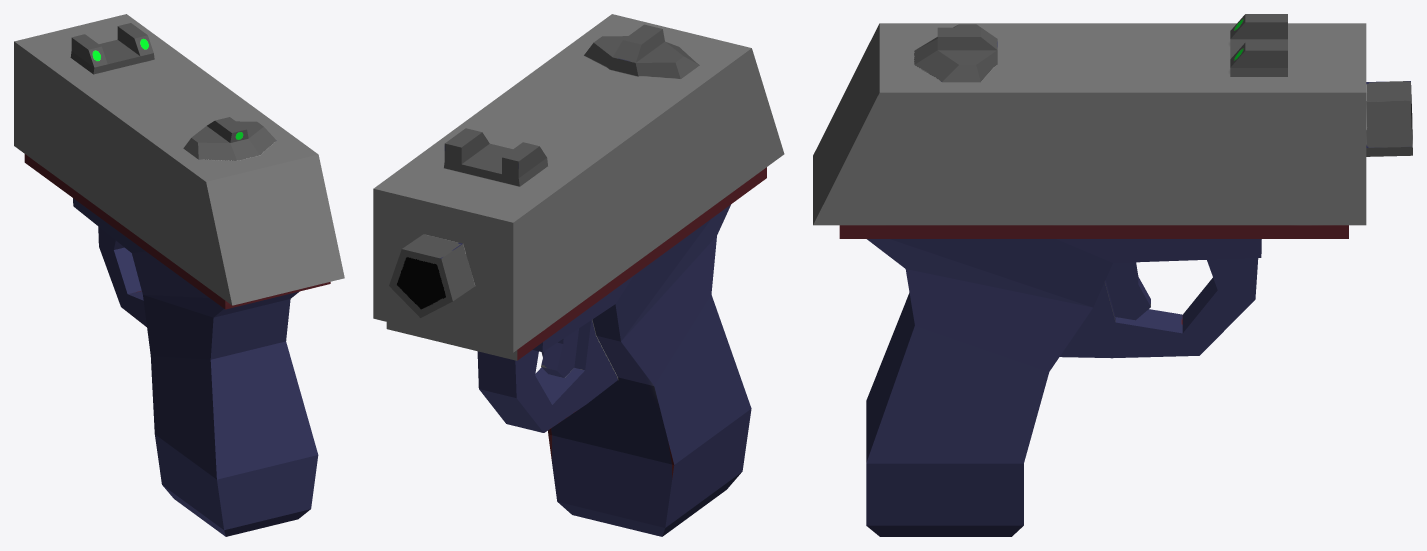
The model's file is handgun.fbx.
3 renders of one model, left to right at view 1: azimuth 30°, elevation 25°; view 2: azimuth 150°, elevation 25°; view 3: azimuth 270°, elevation 25°, orthographic. The views are drawn at different scales.
Visible parts, largest first — view 1: HandgunMesh; view 2: HandgunMesh; view 3: HandgunMesh.
Boxes of the visible parts, x1=… form: HandgunMesh: x1=14, y1=14, x2=344, y2=536; HandgunMesh: x1=373, y1=14, x2=784, y2=536; HandgunMesh: x1=813, y1=14, x2=1412, y2=536.
Size of the model in its own units: 124 by 400 by 451.
